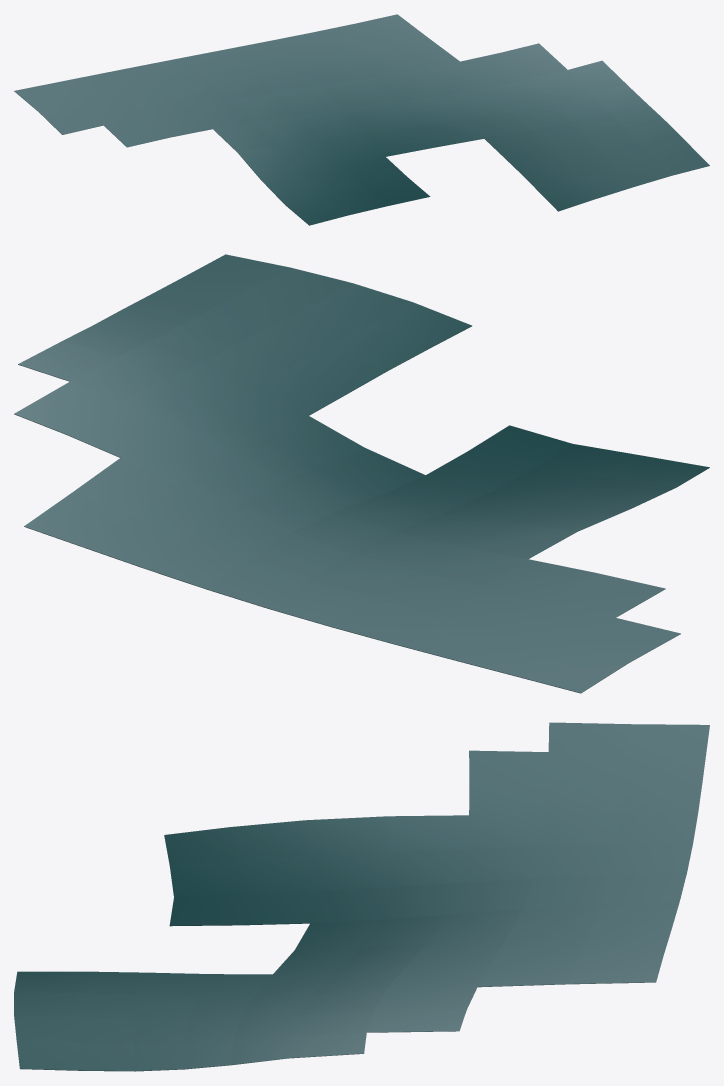
The model's file is TerrainFlatWorld.002.fbx.
The picture shows the model from 3 angles, top to bottom: view 1: azimuth 30°, elevation 25°; view 2: azimuth 150°, elevation 25°; view 3: azimuth 270°, elevation 25°; orthographic projection. The views are drawn at different scales.
Parts seen in each view (by area): view 1: TerrainFlatWorld.002; view 2: TerrainFlatWorld.002; view 3: TerrainFlatWorld.002.
Part boxes in pixels (x1,y1,x2,y2): TerrainFlatWorld.002: [14, 14, 709, 225]; TerrainFlatWorld.002: [14, 254, 709, 693]; TerrainFlatWorld.002: [14, 722, 709, 1071].
Bounding box in the file's own units: 253 × 15.26 × 220.
